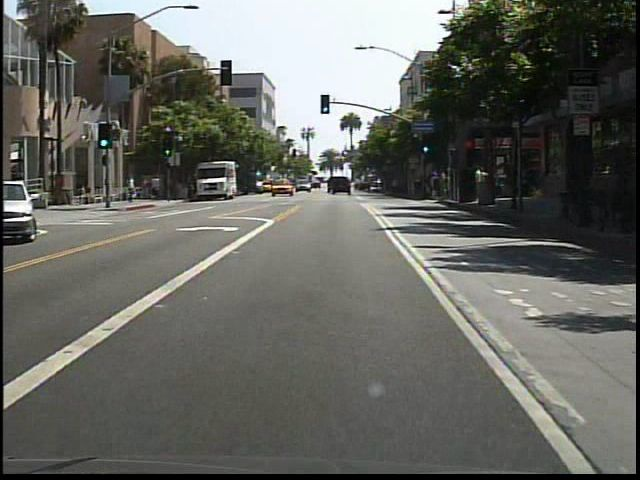person: (127, 173, 140, 205), (81, 183, 97, 208), (151, 173, 164, 202), (142, 177, 154, 201)
